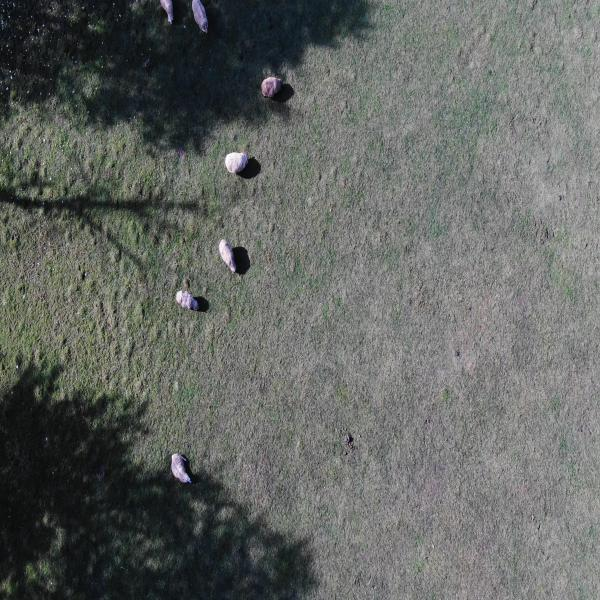sheep: (174, 286, 203, 323), (169, 447, 194, 489), (192, 0, 214, 40), (221, 147, 251, 176), (219, 237, 238, 279), (260, 74, 285, 102), (162, 0, 175, 34)
